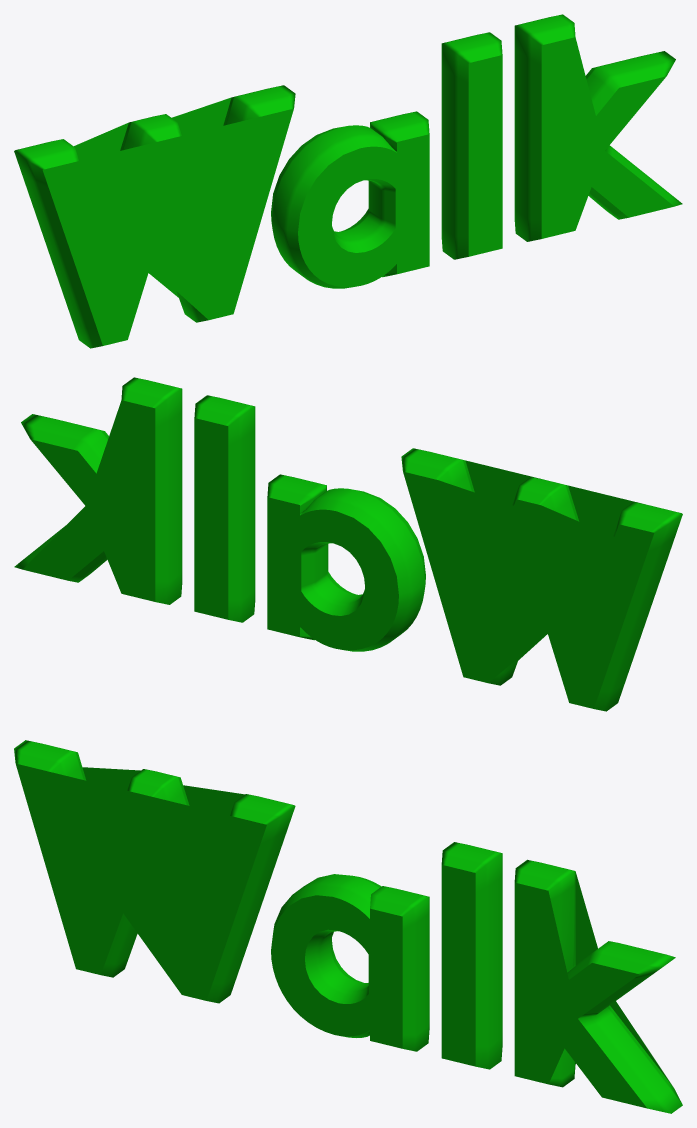
File: Walk.fbx
3 renders of one model, top to bottom at view 1: azimuth 30°, elevation 25°; view 2: azimuth 150°, elevation 25°; view 3: azimuth 330°, elevation 25°, orthographic.
Parts seen in each view (by area): view 1: bevelPolygon2, bevelPolygon5, bevelPolygon3, bevelPolygon4; view 2: bevelPolygon2, bevelPolygon5, bevelPolygon3, bevelPolygon4; view 3: bevelPolygon2, bevelPolygon5, bevelPolygon3, bevelPolygon4.
Boxes of the visible parts, bbox=[...] form: bevelPolygon2: bbox=[14, 85, 295, 348]; bevelPolygon5: bbox=[514, 14, 682, 241]; bevelPolygon3: bbox=[271, 111, 429, 288]; bevelPolygon4: bbox=[441, 32, 502, 259]; bevelPolygon2: bbox=[401, 448, 682, 711]; bevelPolygon5: bbox=[14, 377, 182, 604]; bevelPolygon3: bbox=[267, 474, 425, 651]; bevelPolygon4: bbox=[194, 395, 255, 622]; bevelPolygon2: bbox=[14, 740, 295, 1003]; bevelPolygon5: bbox=[514, 859, 682, 1113]; bevelPolygon3: bbox=[271, 874, 429, 1051]; bevelPolygon4: bbox=[441, 842, 502, 1069].
Size of the model in its own units: 9.83 by 3.01 by 0.7.
